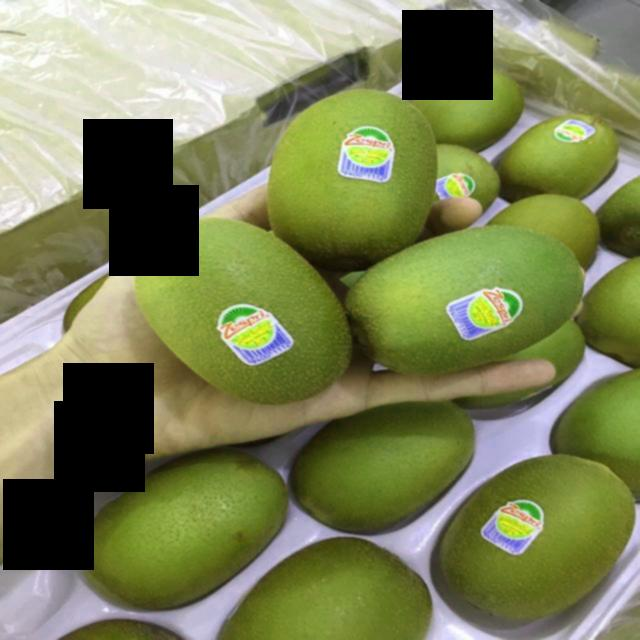kiwi: (135, 222, 349, 404), (440, 437, 637, 634), (72, 452, 298, 611), (369, 233, 588, 387), (266, 84, 432, 253), (215, 523, 433, 640), (287, 410, 487, 533), (502, 105, 615, 201), (417, 63, 525, 151)
